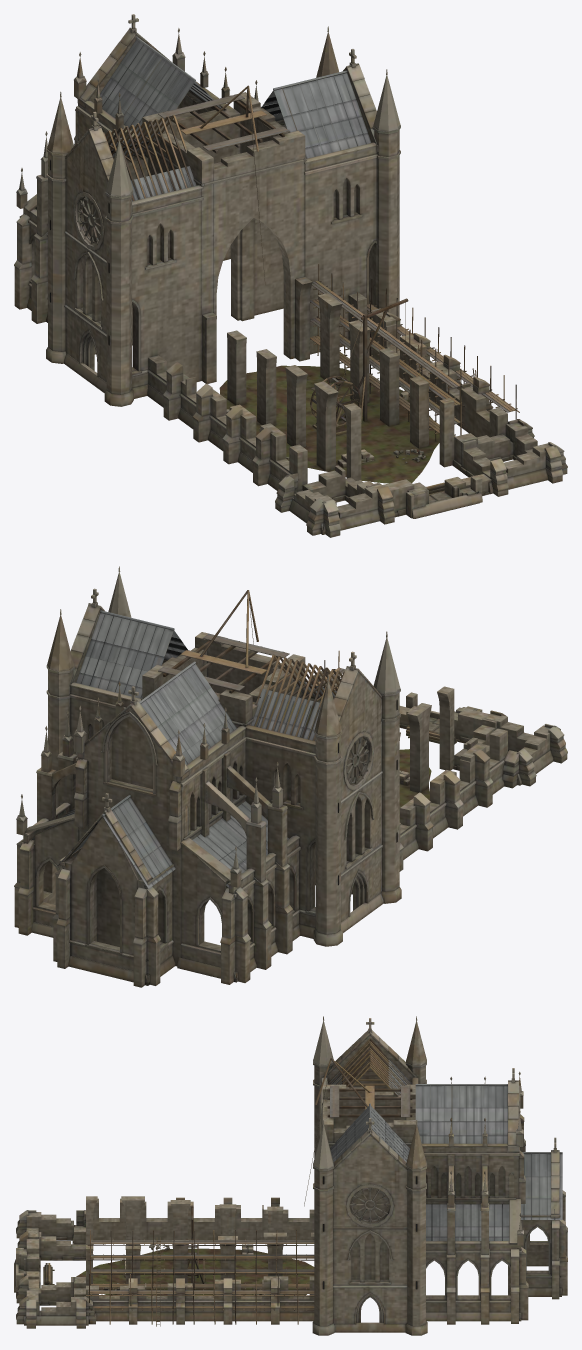
File: cathedral_build2.glb
The picture shows the model from 3 angles, top to bottom: view 1: azimuth 30°, elevation 25°; view 2: azimuth 150°, elevation 25°; view 3: azimuth 270°, elevation 25°; orthographic projection. The views are drawn at different scales.
Parts seen in each view (by area): view 1: cathedral_build2_LOD0; view 2: cathedral_build2_LOD0; view 3: cathedral_build2_LOD0.
Boxes of the visible parts, left/top/right/bottom form: cathedral_build2_LOD0: left=14, top=14, right=567, bottom=537; cathedral_build2_LOD0: left=14, top=566, right=567, bottom=987; cathedral_build2_LOD0: left=14, top=1016, right=567, bottom=1335.
Size of what is drawn, in the model's own units: 31.59 by 28.95 by 65.5.
1 material, 1 textured.
